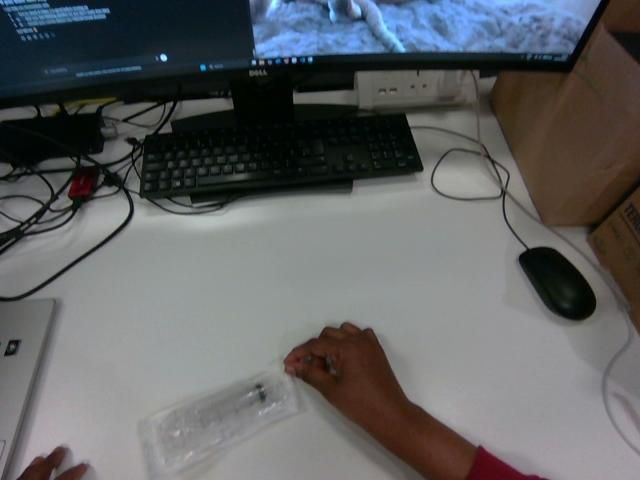syringe: (139, 370, 298, 478)
